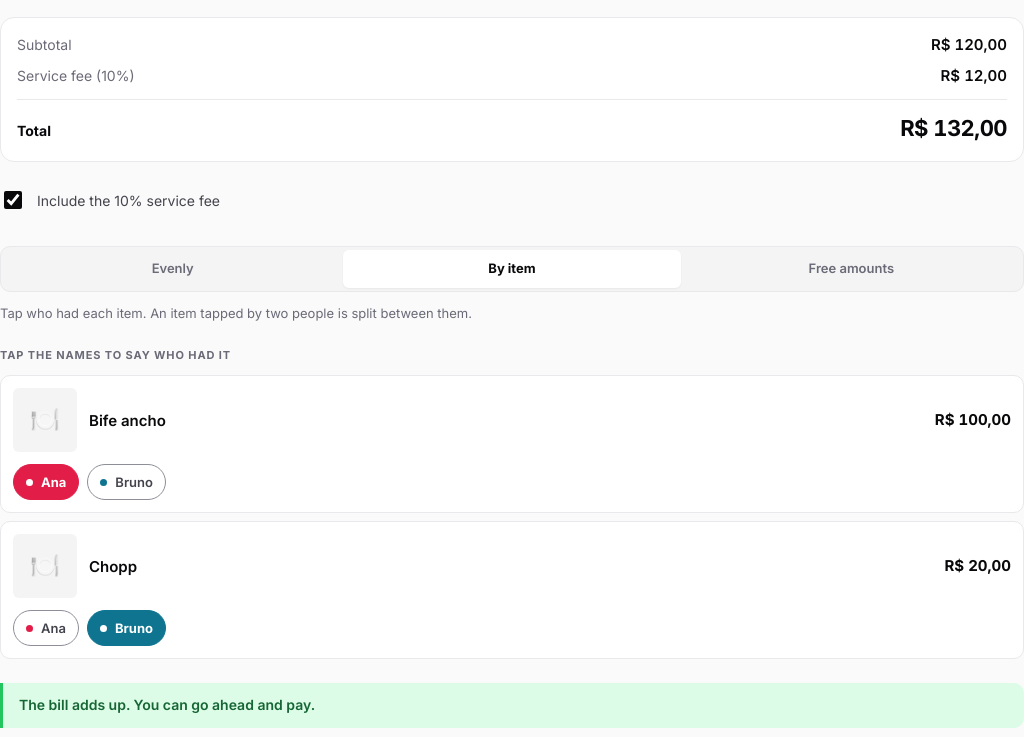
Scenario: BillPage › adds a diner to an item when their name is tapped
This screenshot has width=1024, height=737.
Click the 1st button "Bruno" at (127, 482), box [87, 464, 166, 500]
(page scrolled)
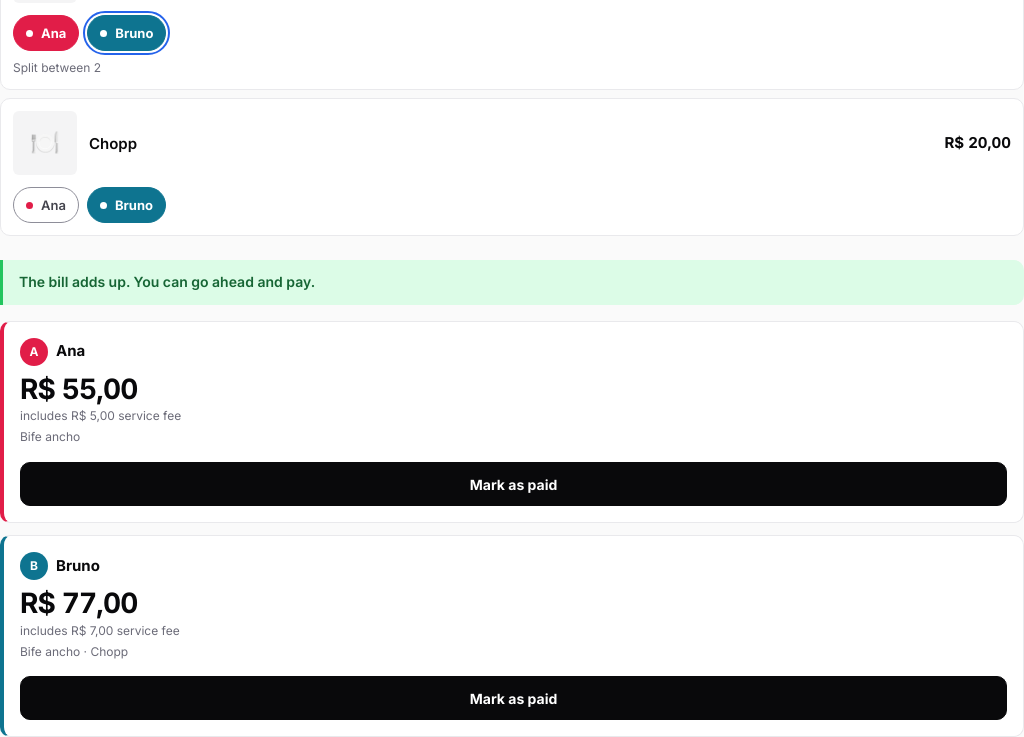
Now the list item that starts with "Ana" shows "55,00", box [20, 372, 138, 406]
Now the list item that starts with "Bruno" shows "77,00", box [20, 586, 138, 620]
